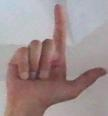L: (1, 0, 108, 116)
